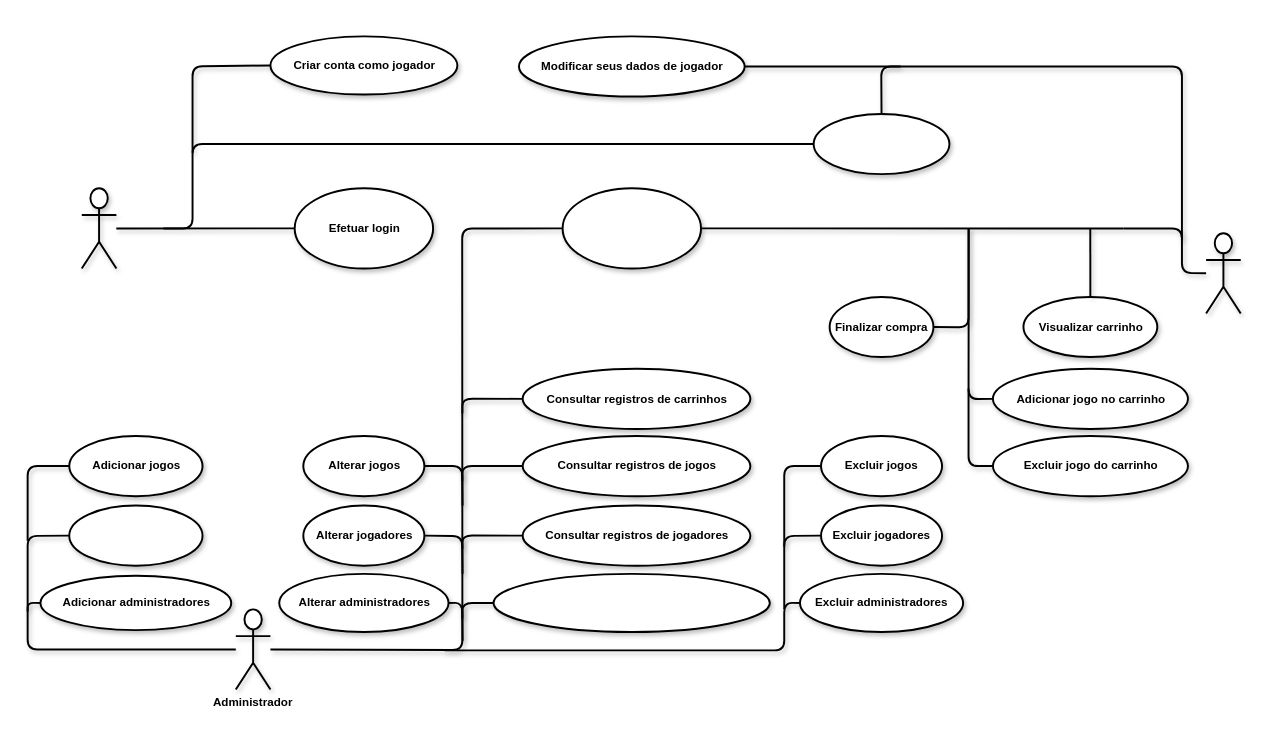
Some shapes in this 1274 by 731 pixel diagram are drawn without their labels. Here are the shapes that lost their labels. From the top down, the centre of each, then its label:
At pixel 882 145: "Pesquisar por jogos".
At pixel 99 229: "Visitante".
At pixel 632 229: "Efetuar logout".
At pixel 1224 274: "Jogador".
At pixel 136 536: "Adicionar jogadores".
At pixel 632 604: "Consultar registros de administradores".
